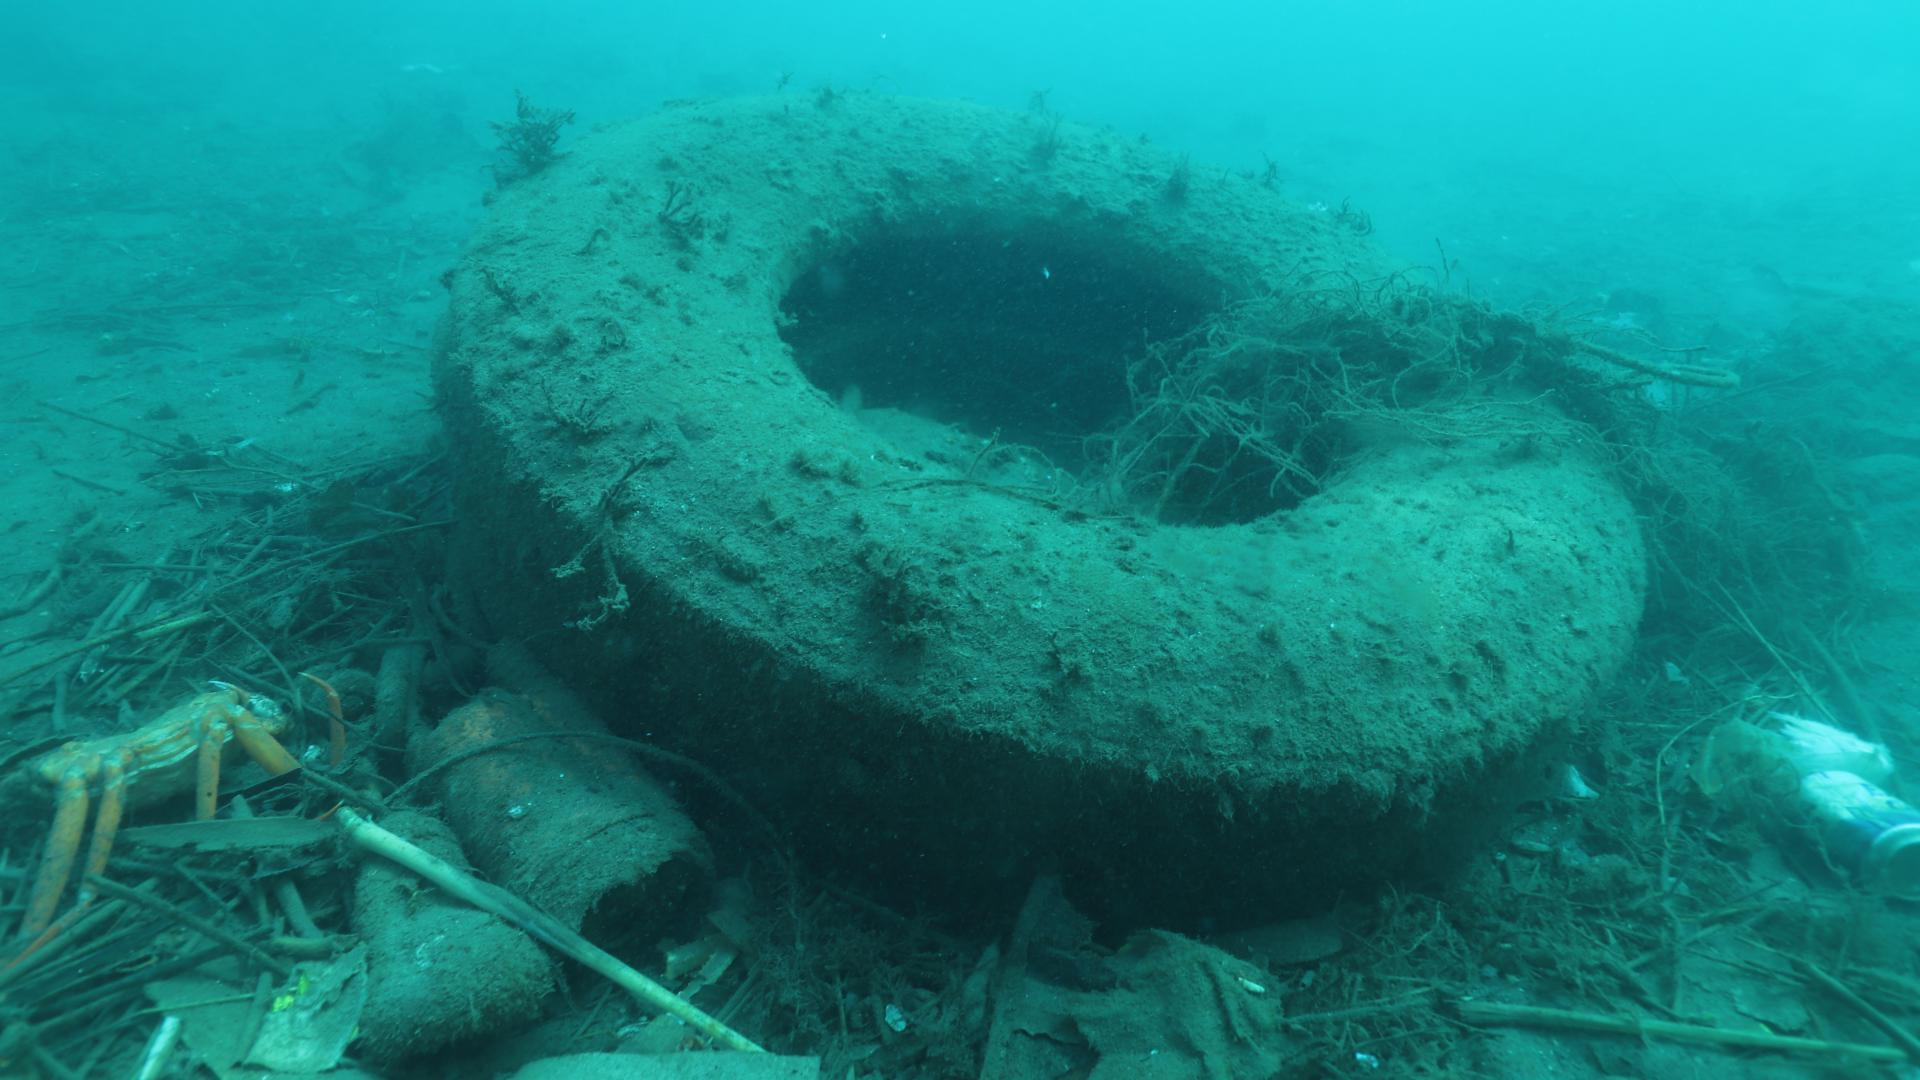tire: (439, 94, 1647, 944)
